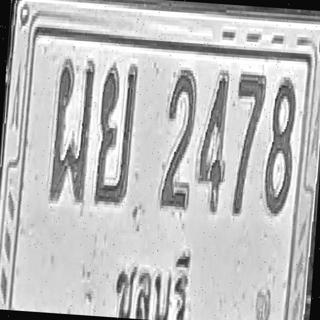A28: (48, 57, 95, 204)
A34: (93, 61, 138, 206)
N02: (158, 67, 198, 211)
N04: (194, 67, 232, 214)
N07: (228, 71, 266, 217)
N08: (262, 74, 298, 216)
P13: (108, 235, 190, 320)
